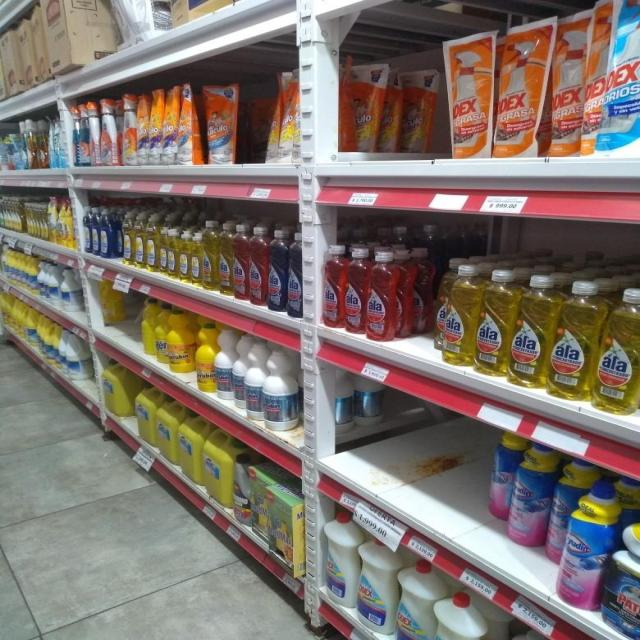ala_conc_amarillo: (595, 284, 640, 415), (550, 278, 595, 401), (510, 272, 550, 389), (437, 262, 476, 368), (476, 267, 511, 378), (218, 222, 232, 296), (202, 224, 217, 291)
ala_conc_azul: (268, 228, 286, 315), (288, 228, 302, 318)
ala_conc_rojo: (367, 247, 399, 342), (344, 245, 366, 335), (322, 245, 344, 329), (250, 225, 268, 307), (234, 223, 248, 301)
cif_conc_bot_amarilla: (25, 198, 32, 236)
magistral_con_amarillo: (146, 212, 157, 273), (178, 229, 190, 283), (190, 230, 201, 286), (122, 209, 133, 265), (134, 211, 144, 269), (168, 228, 178, 279), (158, 224, 166, 276)
magistral_con_azul: (304, 485, 322, 585)
